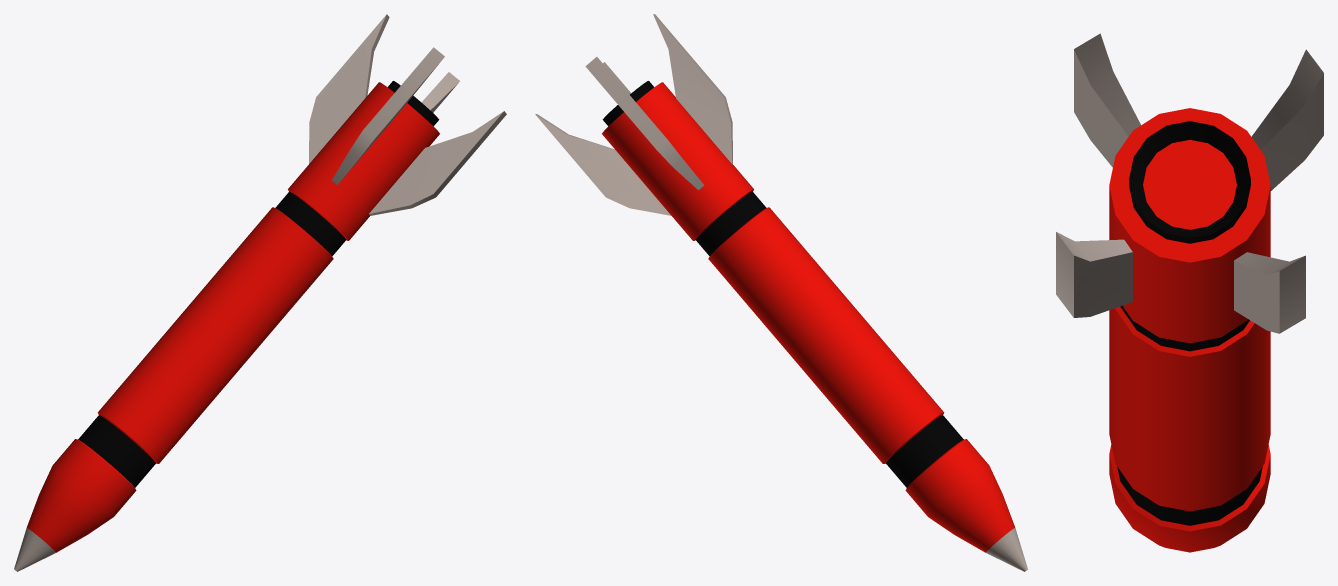
File: Rakieta.fbx
The picture shows the model from 3 angles, left to right: view 1: azimuth 30°, elevation 25°; view 2: azimuth 150°, elevation 25°; view 3: azimuth 270°, elevation 25°; orthographic projection. The views are drawn at different scales.
Visible parts, largest first — view 1: Cylinder; view 2: Cylinder; view 3: Cylinder.
Part boxes in pixels (left/top/right/bottom): Cylinder: left=14, top=14, right=506, bottom=571; Cylinder: left=535, top=14, right=1027, bottom=571; Cylinder: left=1056, top=33, right=1323, bottom=552.
Size of the model in its own units: 858 by 779 by 213.
